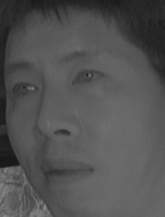eye: (71, 66, 106, 92), (8, 79, 41, 101)
mouth: (40, 153, 94, 189)
